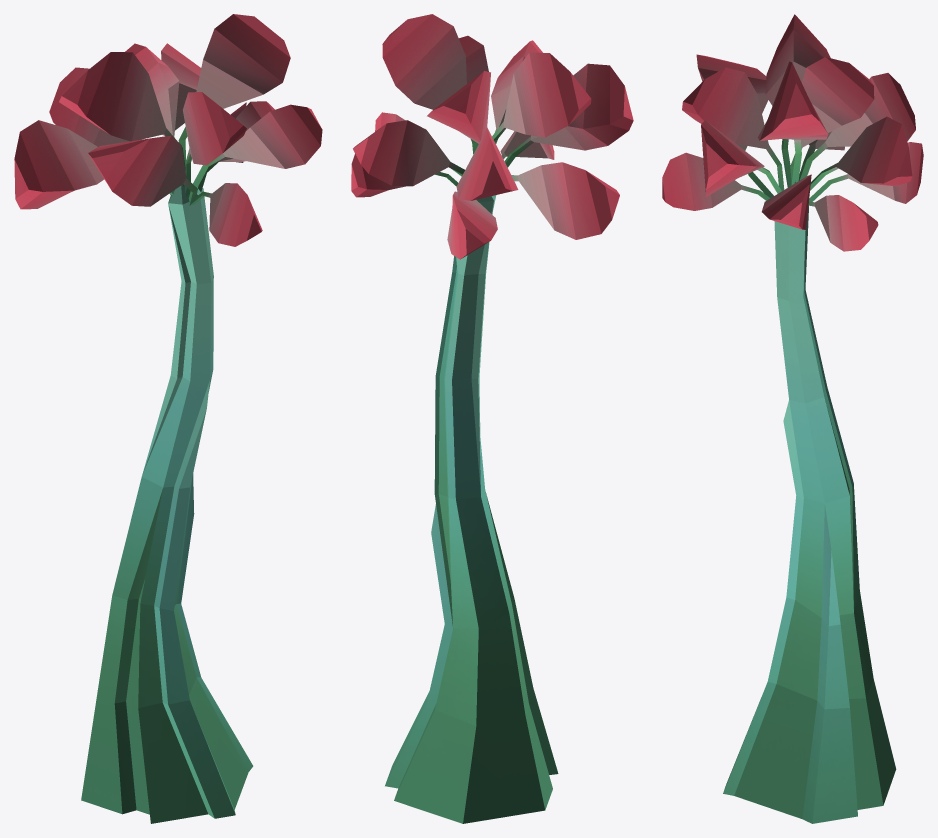
Rendered from yd 1tree2.obj.
3 renders of one model, left to right at view 1: azimuth 30°, elevation 25°; view 2: azimuth 150°, elevation 25°; view 3: azimuth 270°, elevation 25°, orthographic. The views are drawn at different scales.
Parts seen in each view (by area): view 1: Tree_lush; view 2: Tree_lush; view 3: Tree_lush.
Boxes of the visible parts, x1,y1,x2,y2 form: Tree_lush: [14, 14, 322, 823]; Tree_lush: [351, 14, 633, 823]; Tree_lush: [662, 14, 923, 823].
Size of the model in its own units: 1349 by 3846 by 1220.
